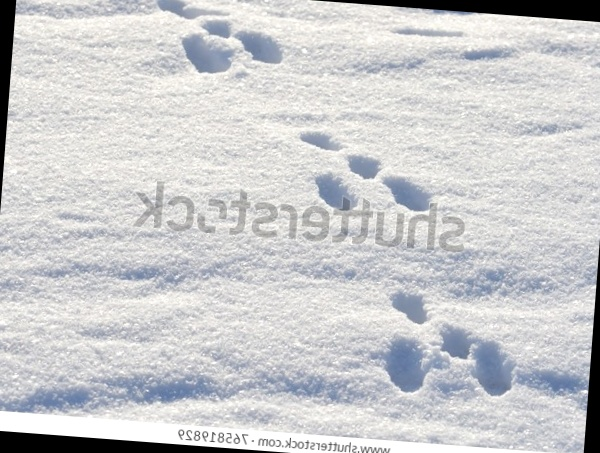rabbit: (280, 108, 465, 243), (363, 278, 536, 407)
